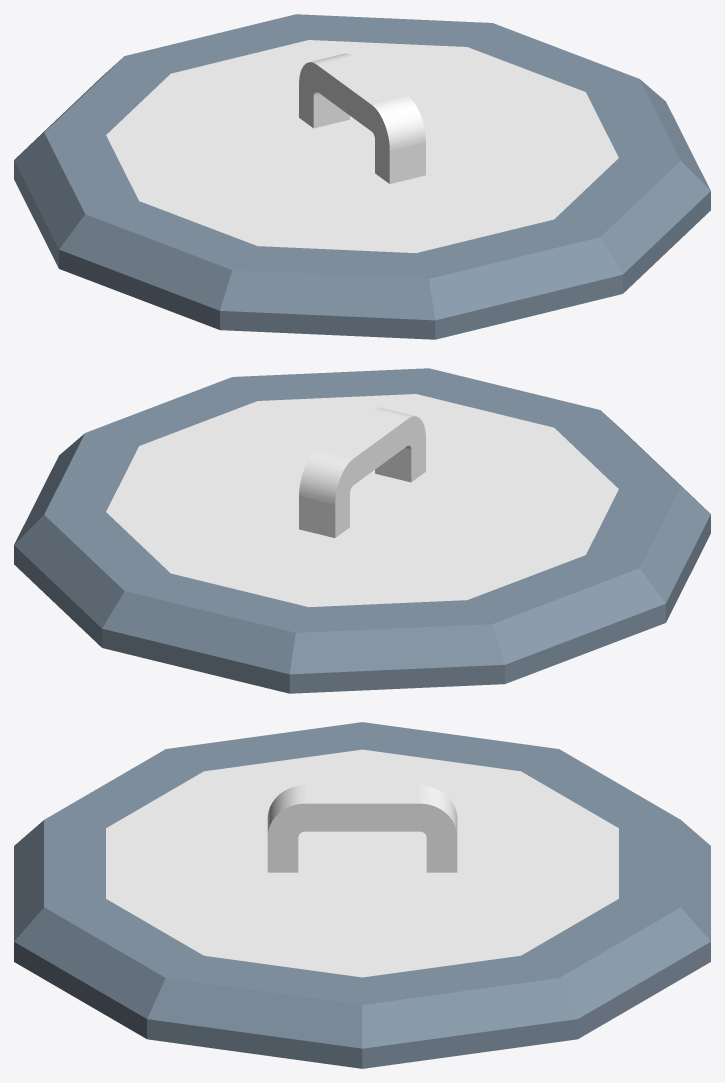
The model's file is potLid.obj.
3 renders of one model, top to bottom at view 1: azimuth 30°, elevation 25°; view 2: azimuth 150°, elevation 25°; view 3: azimuth 270°, elevation 25°, orthographic. The views are drawn at different scales.
Parts seen in each view (by area): view 1: potLid; view 2: potLid; view 3: potLid.
Part boxes in pixels (<box>): potLid: <box>14,14,710,339</box>; potLid: <box>14,368,710,693</box>; potLid: <box>14,722,710,1068</box>.
Bounding box in the file's own units: 0.6574 × 0.1184 × 0.6253.
